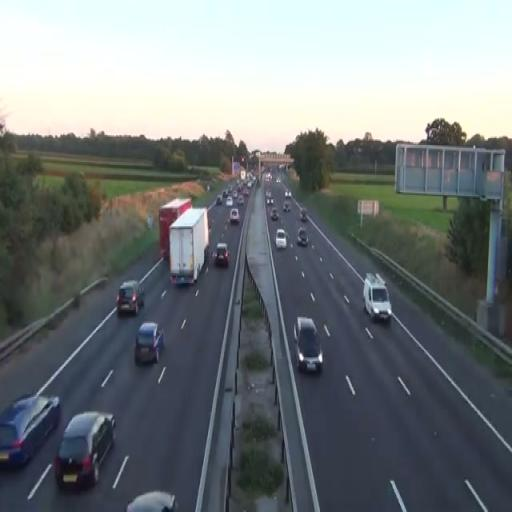Car: (54, 410, 116, 492), (0, 392, 62, 468), (294, 317, 323, 374), (362, 272, 392, 322), (134, 322, 164, 366), (124, 490, 178, 512), (116, 280, 145, 316), (213, 242, 230, 267), (297, 227, 309, 247), (276, 229, 286, 249), (230, 208, 240, 224)
Truck: (168, 207, 210, 287), (158, 198, 192, 262)
